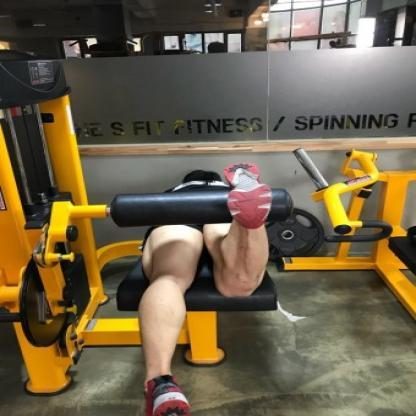reg curl machine: (0, 43, 301, 416)
